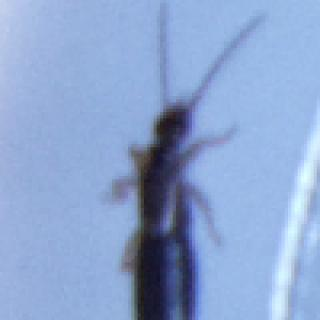earwig: (104, 0, 268, 320)
